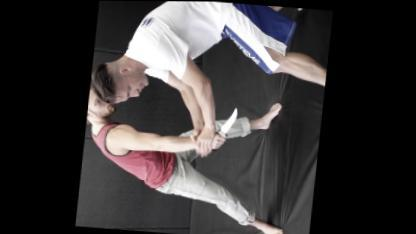knife: (211, 103, 241, 155)
